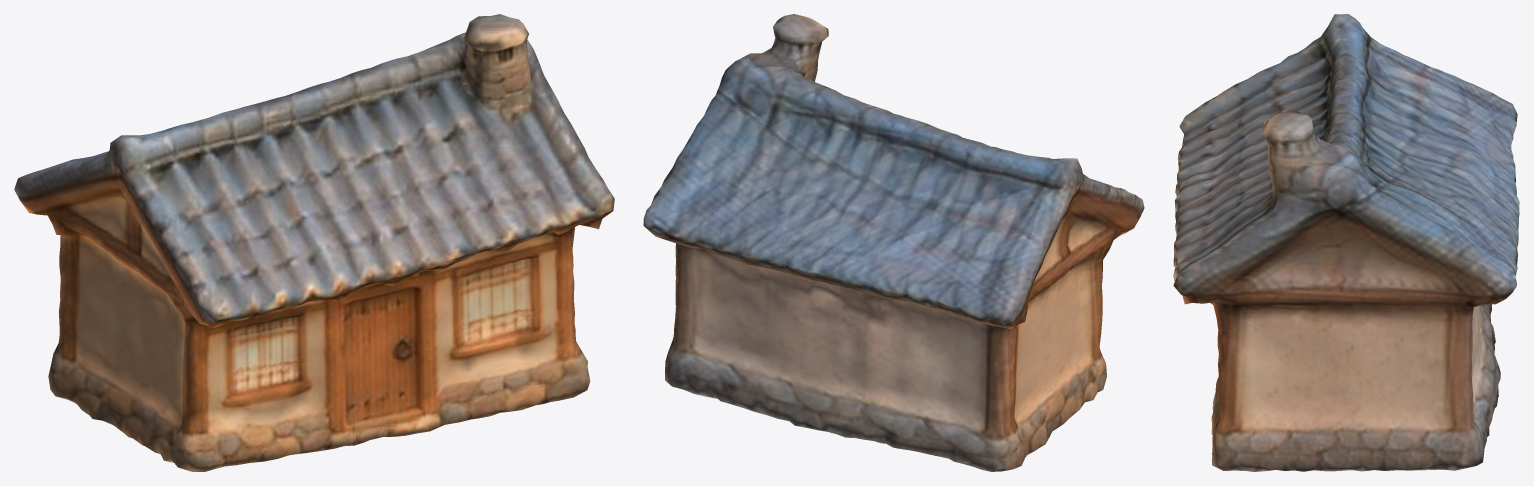
File: home_a.glb
3 views of the same model, side by side, from view 1: azimuth 30°, elevation 25°; view 2: azimuth 150°, elevation 25°; view 3: azimuth 270°, elevation 25° (orthographic). The views are drawn at different scales.
Parts seen in each view (by area): view 1: world; view 2: world; view 3: world.
Part boxes in pixels (x1,y1,x2,y2): world: [14, 14, 614, 471]; world: [643, 14, 1144, 471]; world: [1173, 14, 1519, 471].
Bounding box in the file's own units: 3.58 × 2.9 × 2.72.
Materials: 1 (1 with a texture image).
